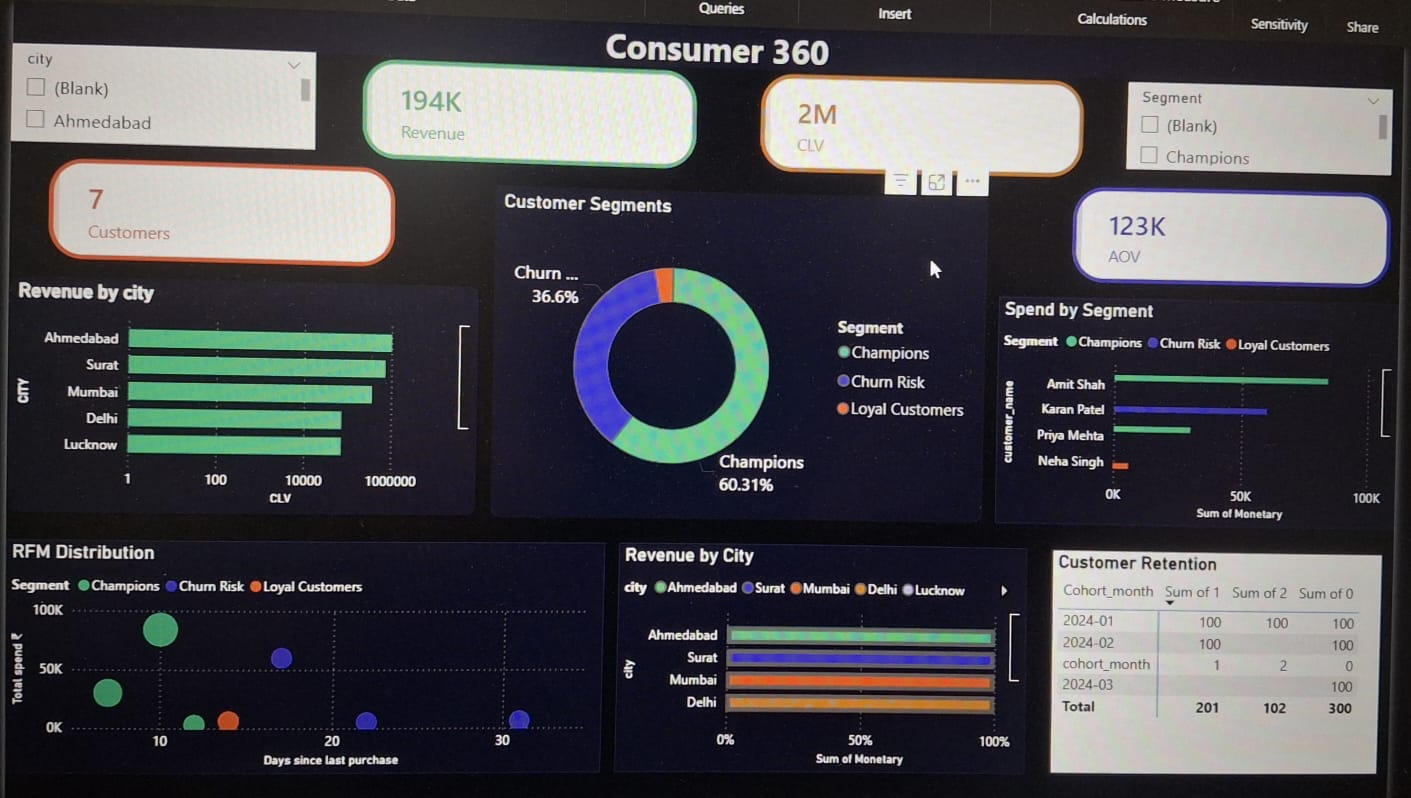

The page's visual inventory and layout, read from the dashboard file:
{"tool":"powerbi","page":{"name":"Page 1","canvas":[1280,720],"ordinal":0},"visuals":[{"type":"cardVisual","fields":{"Data":["rfm_output.Total Revenue"]},"box":[308,41.7,303.1,89.6],"z":0},{"type":"cardVisual","fields":{"Data":["rfm_output.Total Customers"]},"box":[34.4,139.9,303.1,89.6],"z":1000},{"type":"cardVisual","fields":{"Data":["rfm_output.Total CLV"]},"box":[671.2,41.7,303.1,89.6],"z":2000},{"type":"cardVisual","fields":{"Data":["Sum(rfm_output.Avg Order Value)"]},"box":[966.9,139.9,303.1,89.6],"z":3000},{"type":"donutChart","title":"Customer Segments","fields":{"Y":["Sum(rfm_output.Monetary)"],"Category":["rfm_output.Segment"]},"box":[427,152.1,460.1,305.5],"z":4000},{"type":"hundredPercentStackedBarChart","title":"Revenue by City","fields":{"Category":["rfm_output.city"],"Y":["Sum(rfm_output.Monetary)"],"Series":["rfm_output.city"]},"box":[546,481,384.1,211],"z":5000},{"type":"clusteredBarChart","title":"Spend by Segment","fields":{"Category":["rfm_output.customer_name"],"Y":["Sum(rfm_output.Monetary)"],"Series":["rfm_output.Segment"]},"box":[899.4,244.2,380.4,213.5],"z":6000},{"type":"scatterChart","title":"RFM Distribution","fields":{"X":["Sum(rfm_output.Recency)"],"Y":["Sum(rfm_output.Monetary)"],"Size":["Sum(rfm_output.Frequency)"],"Series":["rfm_output.Segment"],"Category":["rfm_output.customer_name"]},"box":[0,480.7,532.5,211],"z":7000},{"type":"pivotTable","title":"Customer Retention","fields":{"Rows":["cohort_analysis.Cohort_month"],"Values":["Sum(cohort_analysis.1)","Sum(cohort_analysis.2)","Sum(cohort_analysis.0)"]},"box":[953.4,481,316.6,211],"z":8000},{"type":"textbox","title":"Consumer 360","box":[0,0,1260,38],"z":9000},{"type":"slicer","fields":{"Values":["rfm_output.Segment"]},"box":[1016,41.7,254,81],"z":10000},{"type":"slicer","fields":{"Values":["rfm_output.city"]},"box":[0,38,266.3,87.1],"z":11000},{"type":"clusteredBarChart","title":"Revenue by city","fields":{"Y":["rfm_output.Total CLV"],"Category":["rfm_output.city"]},"box":[0,244.2,414.7,213.5],"z":12000}]}

Visuals, with their boxes on the page's 1280x720 design canvas (x1, y1, x2, y2). These are canvas units, not pixel positions in the 1411x798 screenshot, which may show the page scaled, cropped or inside an application window:
cardVisual - rfm_output.Total Revenue: rect(308, 42, 611, 131)
cardVisual - rfm_output.Total Customers: rect(34, 140, 338, 230)
cardVisual - rfm_output.Total CLV: rect(671, 42, 974, 131)
cardVisual - Sum(rfm_output.Avg Order Value): rect(967, 140, 1270, 230)
"Customer Segments" donutChart: rect(427, 152, 887, 458)
"Revenue by City" hundredPercentStackedBarChart: rect(546, 481, 930, 692)
"Spend by Segment" clusteredBarChart: rect(899, 244, 1280, 458)
"RFM Distribution" scatterChart: rect(0, 481, 532, 692)
"Customer Retention" pivotTable: rect(953, 481, 1270, 692)
"Consumer 360" textbox: rect(0, 0, 1260, 38)
slicer - rfm_output.Segment: rect(1016, 42, 1270, 123)
slicer - rfm_output.city: rect(0, 38, 266, 125)
"Revenue by city" clusteredBarChart: rect(0, 244, 415, 458)
